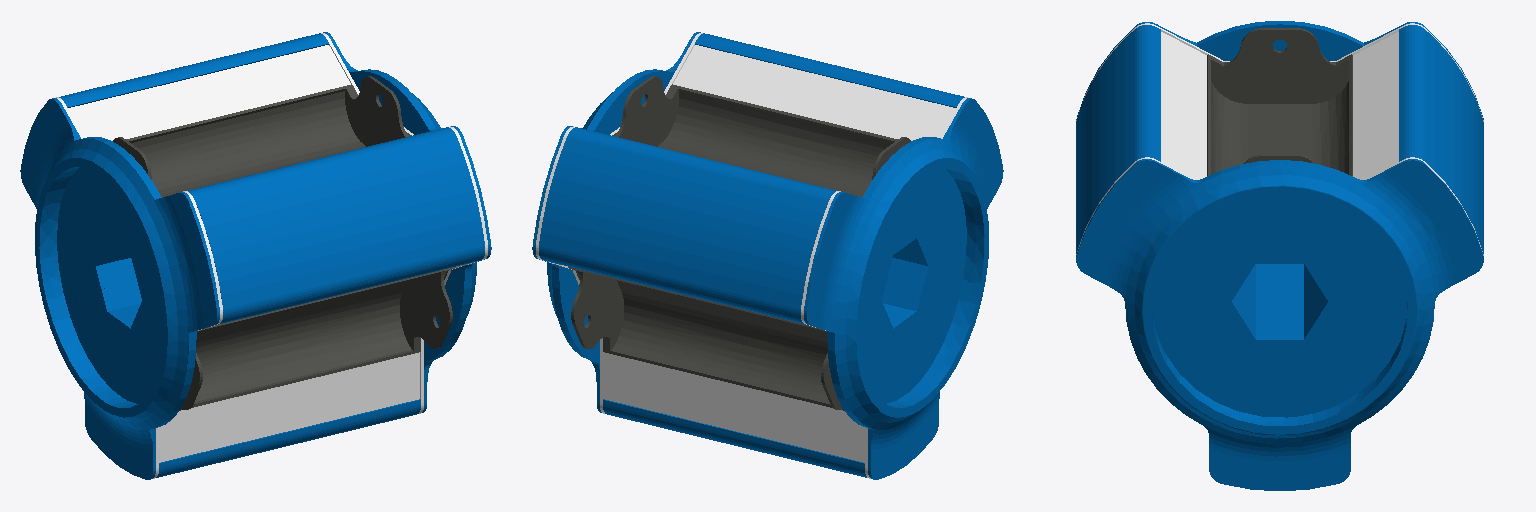
URDF robot description (rm2_sim):
<?xml version="1.0" ?>
<robot name="rm2_sim">
        <!-- Links -->
        <link name="base_link">
                <visual name='visual'>
                        <geometry>
                                <mesh filename="rm2_simulation:model://models/rm2/rm2_body/meshes/body_structure_blue.dae"/>
                        </geometry>
                </visual>
        </link>
        <link name="l1::lLink"/>
        <link name="l1::mLink"/>
        <link name="l1::fLink"/>
        <link name="l2::lLink"/>
        <link name="l2::mLink"/>
        <link name="l2::fLink"/>
        <link name="l3::lLink"/>
        <link name="l3::mLink"/>
        <link name="l3::fLink"/>
        <link name="sa1::aLink"/>
        <link name="sa1::sbLink"/>
        <link name="sa1::cwsLink"/>
        <link name="sa1::ccwsLink"/>
        <link name="sa2::aLink"/>
        <link name="sa2::sbLink"/>
        <link name="sa2::cwsLink"/>
        <link name="sa2::ccwsLink"/>
        <link name="sa3::aLink"/>
        <link name="sa3::sbLink"/>
        <link name="sa3::cwsLink"/>
        <link name="sa3::ccwsLink"/>
        <link name="wa2::aLink"/>
        <link name="wa2::wbLink"/>
        <link name="wa2::fwLink"/>
        <link name="wa2::rwLink"/>
        <link name="wa3::aLink"/>
        <link name="wa3::wbLink"/>
        <link name="wa3::fwLink"/>
        <link name="wa3::rwLink"/> 
        <link name="d_435_camera"/>
        <link name="lidar"/>

        <!-- Body joints -->
        <!-- JOINT BODY - SIMPLE LEG 1 - ABOVE -->
        <joint name="j_b_l1" type="fixed">
                <origin rpy="0 0 0" xyz="0.083 0 0.075"/>
                <parent link="base_link"/>
                <child link="l1::lLink"/>
        </joint>
        <!-- JOINT BODY - SIMPLE LEG 2 - LEFT -->
        <joint name="j_b_l2" type="fixed">
                <origin rpy="-2.0944 0 0" xyz="0.083 0.065 -0.0375"/>
                <parent link="base_link"/>
                <child link="l2::lLink"/>
        </joint>
        <!-- JOINT BODY - SIMPLE LEG 3 - RIGHT -->
        <joint name="j_b_l3" type="fixed">
                <origin rpy="2.0944 0 0" xyz="0.083 -0.065 -0.0375"/>
                <parent link="base_link"/>
                <child link="l3::lLink"/>
        </joint>
        <!-- JOINT SIMPLE LEG 1 - SCREW ACTUATOR 1 - ABOVE -->
        <!-- OJO: AQUÍ TENEMOS QUE REFERIR LAS JOINTS RESPECTO A LA JOINT ANTERIOR PORQUE ES DONDE SE ENCUENTRA EL LINK -->
        <joint name="j_l1_sa1" type="fixed">
                <origin rpy = "0 0 0" xyz = "-0.0127 0.005 0.092"/>
                <parent link = "l1::fLink" />
                <child link = "sa1::aLink" />
        </joint>
        <!-- JOINT SIMPLE LEG 2 - SCREW ACTUATOR 2 - LEFT -->
        <joint name="j_l2_sa2" type="fixed">
                <origin rpy = "0 0 0" xyz = "-0.0127 0.005 0.092"/>
                <parent link = "l2::fLink" />
                <child link = "sa2::aLink" />
        </joint>
        <!-- JOINT SIMPLE LEG 2 - WHEELS ACTUATOR 2 - LEFT -->
        <joint name="j_l2_wa2" type="fixed">
                <origin rpy = "0 0 0" xyz = "-0.0127 0.005 0.092"/>
                <parent link = "l2::fLink" />
                <child link = "wa2::aLink" />
        </joint>
        <!-- JOINT SIMPLE LEG 3 - SCREW ACTUATOR 3 - RIGHT -->
        <joint name="j_l3_sa3" type="fixed">
                <origin rpy = "0 0 0" xyz = "-0.0127 0.005 0.092"/>
                <parent link = "l3::fLink" />
                <child link = "sa3::aLink" />
        </joint>
        <!-- JOINT SIMPLE LEG 3 - WHEELS ACTUATOR 3 - RIGHT -->
        <joint name="j_l3_wa3" type="fixed">
                <origin rpy = "0 0 0" xyz = "-0.0127 0.005 0.092"/>
                <parent link = "l3::fLink" />
                <child link = "wa3::aLink" />
        </joint>
        <!-- Joint camera - body -->
        <joint name="j_rgbd_b" type="fixed">
                <origin rpy = "0 0 0" xyz = "0.090 0 0.038911"/>
                <parent link = "base_link" />
                <child link = "d_435_camera" />
        </joint>
        <!-- Joint lidar - body -->
        <joint name="j_lidar_b" type="fixed">
                <origin rpy = "0 0 0" xyz = "0 0 0.25"/>
                <parent link = "base_link" />
                <child link = "lidar" />
        </joint>
        <!-- JOINT LEG - MOTORS -->
        <joint name="l1::j_l_m" type="fixed">
                <origin rpy = "0 0 0" xyz = "0 0 0"/>
                <parent link = "l1::lLink" />
                <child link = "l1::mLink" />
        </joint>
        <!-- JOINT MOTORS - FRAMES -->
        <joint name="l1::j_m_f" type="fixed">
                <origin rpy = "0 0 0" xyz = "-0.0669 0.019 0.024"/>
                <parent link = "l1::mLink" />
                <child link = "l1::fLink" />
        </joint>
        <!-- JOINT LEG - MOTORS -->
        <joint name="l2::j_l_m" type="fixed">
                <origin rpy = "-0.523599 0 0" xyz = "0 0 0"/>
                <parent link = "l2::lLink" />
                <child link = "l2::mLink" />
        </joint>
        <!-- JOINT MOTORS - FRAMES -->
        <joint name="l2::j_m_f" type="fixed">
                <origin rpy = "0 0 0" xyz = "-0.0669 0.019 0.024"/>
                <parent link = "l2::mLink" />
                <child link = "l2::fLink" />
        </joint>
        <!-- JOINT LEG - MOTORS -->
        <joint name="l3::j_l_m" type="fixed">
                <origin rpy = "0.523599 0 0" xyz = "0 0 0"/>
                <parent link = "l3::lLink" />
                <child link = "l3::mLink" />
        </joint>
        <!-- JOINT MOTORS - FRAMES -->
        <joint name="l3::j_m_f" type="fixed">
                <origin rpy = "0 0 0" xyz = "-0.0669 0.019 0.024"/>
                <parent link = "l3::mLink" />
                <child link = "l3::fLink" />
        </joint>
        <!-- JOINT ACTUATOR - SCREW BASE -->
        <joint name="sa1::j_a_sb" type="fixed">
                <origin rpy = "0 0 0" xyz = "0 0 0"/>
                <parent link = "sa1::aLink" />
                <child link = "sa1::sbLink" />
        </joint>
        <!-- JOINT SCREW BASE - CW SCREW -->
        <joint name="sa1::j_sb_cws" type="continuous">
                <origin rpy = "0 1.5708 0" xyz = "0.0055 -0.024 0.0132"/>
                <parent link = "sa1::sbLink" />
                <child link = "sa1::cwsLink" />
                <axis xyz="0 0 1" />
        </joint>
        <!-- JOINT SCREW BASE - CCW SCREW -->
        <joint name="sa1::j_sb_ccws" type="continuous">
                <origin rpy = "0 -1.5708 0" xyz = "-0.0145 -0.024 0.0132"/>
                <parent link = "sa1::sbLink" />
                <child link = "sa1::ccwsLink" />
                <axis xyz="0 0 1" />
        </joint>
        <!-- JOINT ACTUATOR - SCREW BASE -->
        <joint name="sa2::j_a_sb" type="fixed">
                <origin rpy = "0 0 0" xyz = "0 0 0"/>
                <parent link = "sa2::aLink" />
                <child link = "sa2::sbLink" />
        </joint>
        <!-- JOINT SCREW BASE - CW SCREW -->
        <joint name="sa2::j_sb_cws" type="continuous">
                <origin rpy = "0 1.5708 0" xyz = "0.0055 -0.024 0.0132"/>
                <parent link = "sa2::sbLink" />
                <child link = "sa2::cwsLink" />
                <axis xyz="0 0 1" />
        </joint>
        <!-- JOINT SCREW BASE - CCW SCREW -->
        <joint name="sa2::j_sb_ccws" type="continuous">
                <origin rpy = "0 -1.5708 0" xyz = "-0.0145 -0.024 0.0132"/>
                <parent link = "sa2::sbLink" />
                <child link = "sa2::ccwsLink" />
                <axis xyz="0 0 1" />
        </joint>
        <!-- JOINT ACTUATOR - SCREW BASE -->
        <joint name="sa3::j_a_sb" type="fixed">
                <origin rpy = "0 0 0" xyz = "0 0 0"/>
                <parent link = "sa3::aLink" />
                <child link = "sa3::sbLink" />
        </joint>
        <!-- JOINT SCREW BASE - CW SCREW -->
        <joint name="sa3::j_sb_cws" type="continuous">
                <origin rpy = "0 1.5708 0" xyz = "0.0055 -0.024 0.0132"/>
                <parent link = "sa3::sbLink" />
                <child link = "sa3::cwsLink" />
                <axis xyz="0 0 1" />
        </joint>
        <!-- JOINT SCREW BASE - CCW SCREW -->
        <joint  name="sa3::j_sb_ccws" type="continuous">
                <origin rpy = "0 -1.5708 0" xyz = "-0.0145 -0.024 0.0132"/>
                <parent link = "sa3::sbLink" />
                <child link = "sa3::ccwsLink" />
                <axis xyz="0 0 1" />
        </joint>
        <!-- JOINT ACTUATOR - WHEELS BAR -->
        <joint name="wa2::j_a_wb" type="fixed">
                <origin rpy = "0 -0.523599 1.5708" xyz = "-0.0045 -0.024 0.0132"/>
                <parent link = "wa2::aLink" />
                <child link = "wa2::wbLink" />
        </joint>
        <!-- JOINT WHEELS BAR - FRONT WHEEL -->
        <joint name="wa2::j_wb_fw" type="continuous">
                <origin rpy = "1.5708 0 0" xyz = "0.009 0 0.040"/>
                <parent link = "wa2::wbLink" />
                <child link = "wa2::fwLink" />
               <axis xyz="0 0 1" />
        </joint>
        <!-- JOINT WHEELS BAR - REAR WHEEL -->
        <joint name="wa2::j_wb_rw" type="continuous">
                <origin rpy = "1.5708 0 0" xyz = "0.009 0 -0.040"/>
                <parent link = "wa2::wbLink" />
                <child link = "wa2::rwLink" />
               <axis xyz="0 0 1" />
        </joint>
        <!-- JOINT ACTUATOR - WHEELS BAR -->
        <joint name="wa3::j_a_wb" type="fixed">
                <origin rpy = "0 -0.523599 1.5708" xyz = "-0.0045 -0.024 0.0132"/>
                <parent link = "wa3::aLink" />
                <child link = "wa3::wbLink" />
        </joint>
        <!-- JOINT WHEELS BAR - FRONT WHEEL -->
        <joint name="wa3::j_wb_fw" type="continuous">
                <origin rpy = "1.5708 0 0" xyz = "0.009 0 0.040"/>
                <parent link = "wa3::wbLink" />
                <child link = "wa3::fwLink" />
               <axis xyz="0 0 1" />
        </joint>
        <!-- JOINT WHEELS BAR - REAR WHEEL -->
        <joint name="wa3::j_wb_rw" type="continuous">
                <origin rpy = "1.5708 0 0" xyz = "0.009 0 -0.040"/>
                <parent link = "wa3::wbLink" />
                <child link = "wa3::rwLink" />
               <axis xyz="0 0 1" />
        </joint>

<!-- <gazebo reference="d_435_camera">
    <self_collide>0</self_collide>
    <enable_wind>0</enable_wind>
    <kinematic>0</kinematic>
    <gravity>1</gravity>
    <mu2>1</mu2>
    <fdir1>0 0 0</fdir1>
    <kp>1e+13</kp>
    <kd>1</kd>
    <sensor name="d435_color" type="camera">
      <camera name="d435">
        <horizontal_fov>1.2112585008840648</horizontal_fov>
        <image>
          <width>640</width>
          <height>480</height>
          <format>RGB_INT8</format>
        </image>
        <clip>
          <near>0.1</near>
          <far>100</far>
        </clip>
        <noise>
          <type>gaussian</type>
          <mean>0.0</mean>
          <stddev>0.007</stddev>
        </noise>
      </camera>
      <always_on>1</always_on>
      <update_rate>30</update_rate>
      <visualize>1</visualize>
    </sensor>
    
    <sensor name="d435_depth" type="depth">
      <camera name="d435">
        <horizontal_fov>1.4870205226991688</horizontal_fov>
        <image>
          <width>1280</width>
          <height>720</height>
        </image>
        <clip>
          <near>0.1</near>
          <far>100</far>
        </clip>
        <noise>
          <type>gaussian</type>
          <mean>0.0</mean>
          <stddev>0.100</stddev>
        </noise>
      </camera>
      <always_on>1</always_on>
      <update_rate>90</update_rate>
      <visualize>0</visualize>
    </sensor>
  </gazebo>

   

 <gazebo>
    <plugin filename="libgazebo_ros_diff_drive.so" name="differential_drive_controller">
      <legacyMode>false</legacyMode>
      <alwaysOn>true</alwaysOn>
      <updateRate>1000</updateRate>
      <left_joint>wa2::j_wb_fw</left_joint>
      <left_joint>wa2::j_wb_bw</left_joint>
      <right_joint>wa3::j_wb_fw</right_joint>
      <right_joint>wa3::j_wb_bw</right_joint>
      <commandTopic>/cmd_vel</commandTopic>
      <odometryTopic>odom</odometryTopic>
      <odometryFrame>odom</odometryFrame>
      <robotBaseFrame>base_link</robotBaseFrame>
    </plugin>
  </gazebo> -->

</robot>

--- Facts derived from the render (not from the file) ---
Views: 3 orthographic renders of the robot side by side, from view 1: azimuth 30°, elevation 25°; view 2: azimuth 150°, elevation 25°; view 3: azimuth 270°, elevation 25°.
Model rm2_sim with 32 links and 31 joints (10 continuous, 21 fixed), rooted at base_link, posed all joints at 0.
Links seen in each view (by area): view 1: base_link; view 2: base_link; view 3: base_link.
Link boxes in pixels (<box>): base_link: <box>20,32,491,479</box>; base_link: <box>532,32,1003,479</box>; base_link: <box>1076,21,1483,490</box>.
Bounding box of the posed robot: 0.2032 × 0.2238 × 0.2006 m (x, y, z).
Meshes: 1 distinct files referenced, 1 mesh visuals loaded (1 Collada DAE).
